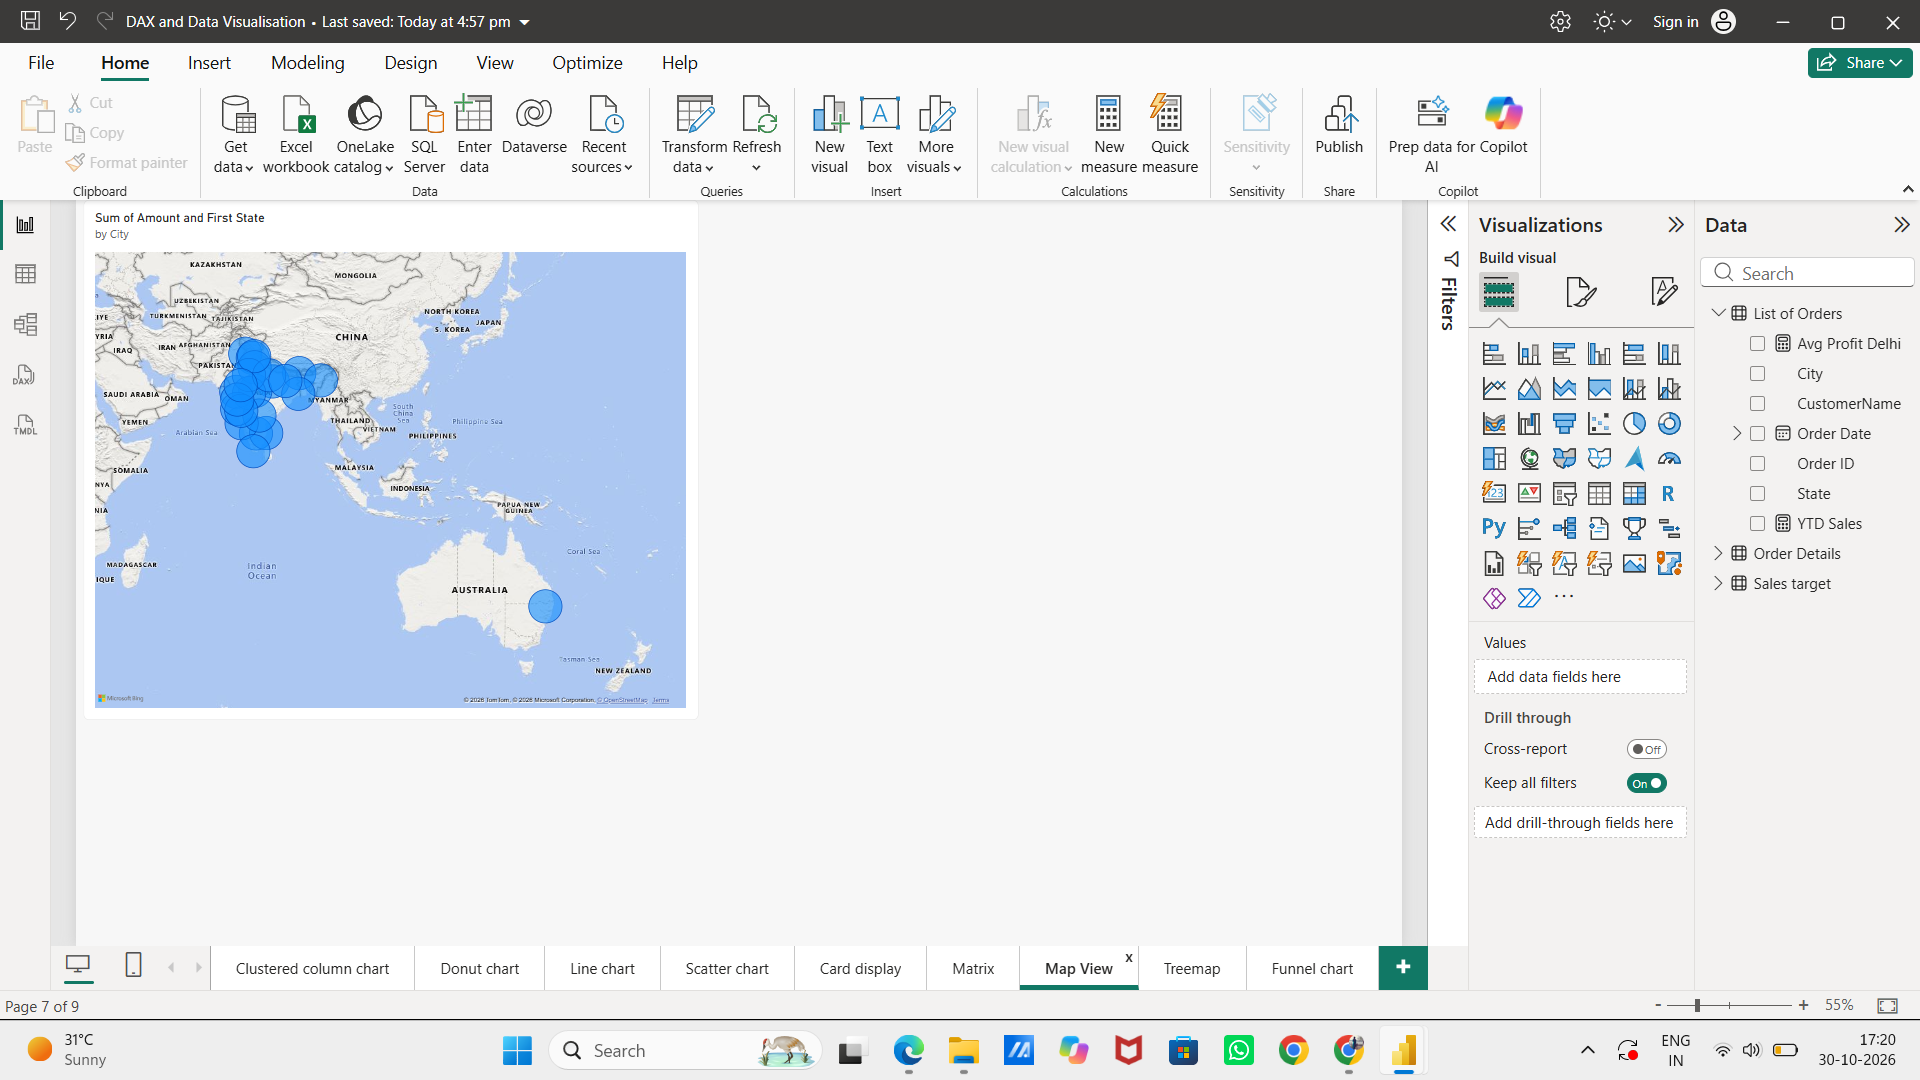

Layout of this report page (visuals, bound fields, positions):
{"tool":"powerbi","page":{"name":"Map View","canvas":[1920,1080],"ordinal":6},"visuals":[{"type":"map","fields":{"Category":["List of Orders.City"],"Size":["Sum(Order Details.Amount)"]},"box":[10.9,0,890.4,752.8],"z":0}]}

Visuals, with their boxes on the page's 1920x1080 design canvas (x1, y1, x2, y2). These are canvas units, not pixel positions in the 1920x1080 screenshot, which may show the page scaled, cropped or inside an application window:
map - List of Orders.City x Sum(Order Details.Amount): BBox(11, 0, 901, 753)
